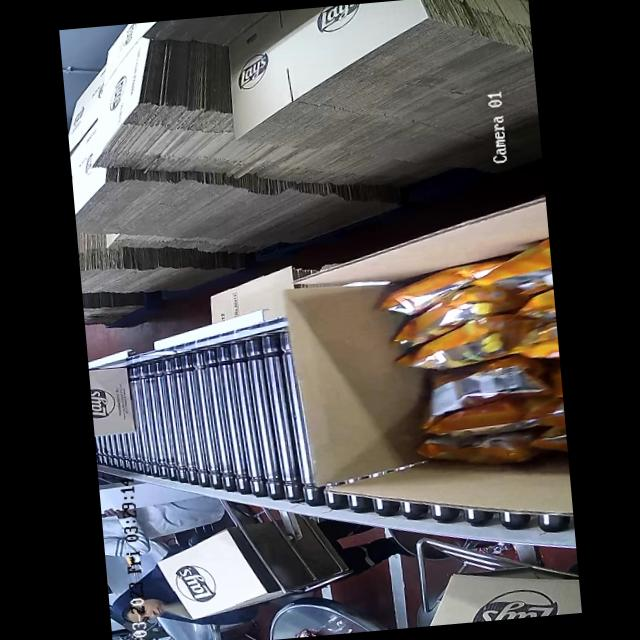cheese: (384, 239, 570, 486)
